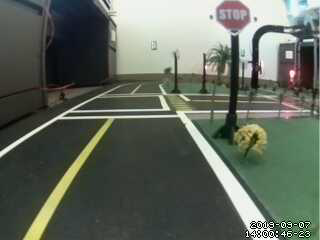Stop_Sign: (212, 2, 252, 35)
